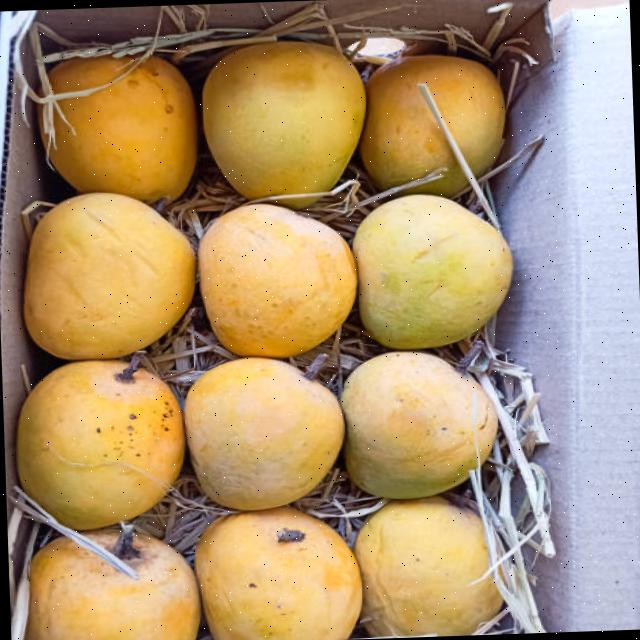mango: (23, 193, 196, 360), (23, 193, 196, 360), (18, 360, 184, 530), (202, 41, 364, 199), (352, 194, 512, 349), (184, 358, 345, 509), (200, 204, 357, 357), (343, 351, 498, 499), (195, 506, 362, 640), (46, 56, 197, 200), (354, 496, 502, 635), (360, 54, 503, 196), (26, 533, 200, 640)
